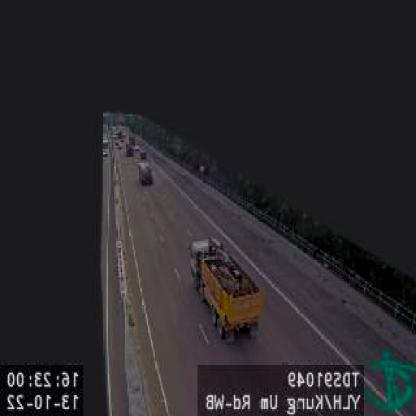Car: (138, 161, 154, 186)
Truck: (193, 236, 262, 342)
